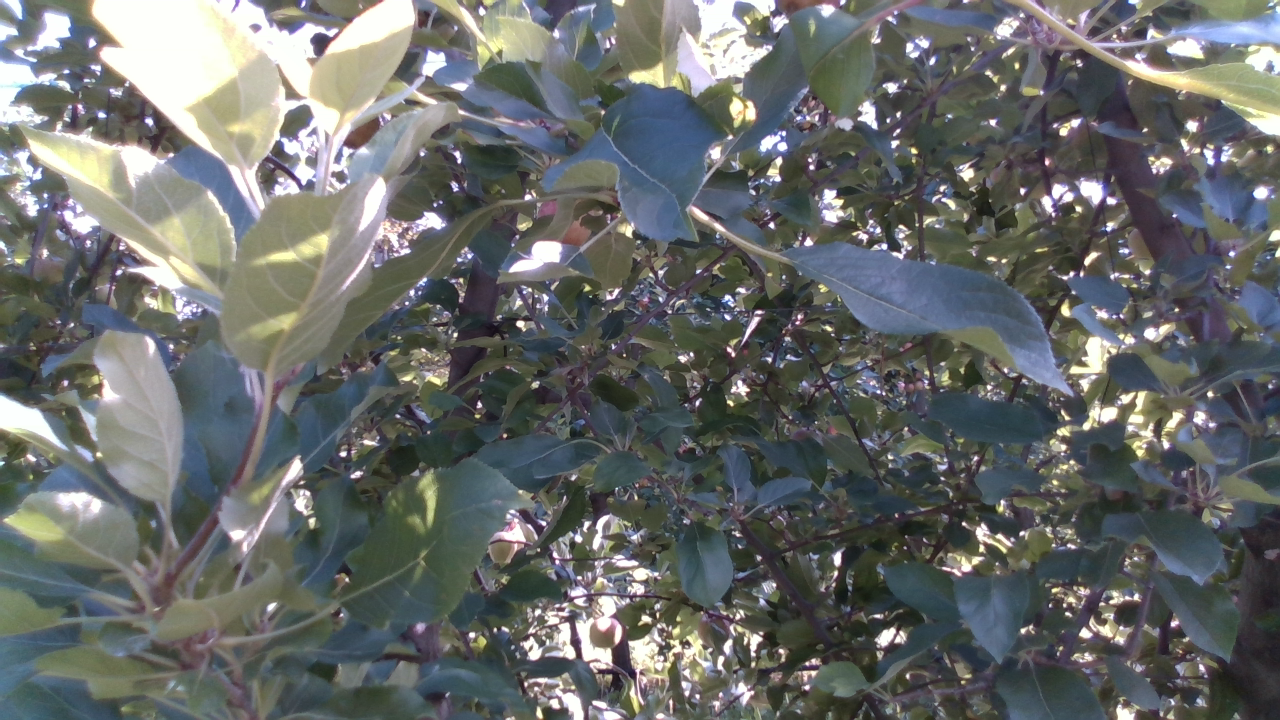apple: (536, 196, 595, 247), (342, 112, 382, 151), (774, 1, 845, 17), (589, 617, 623, 648), (489, 532, 518, 564)
